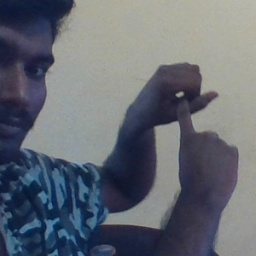Q: (124, 60, 243, 190)
